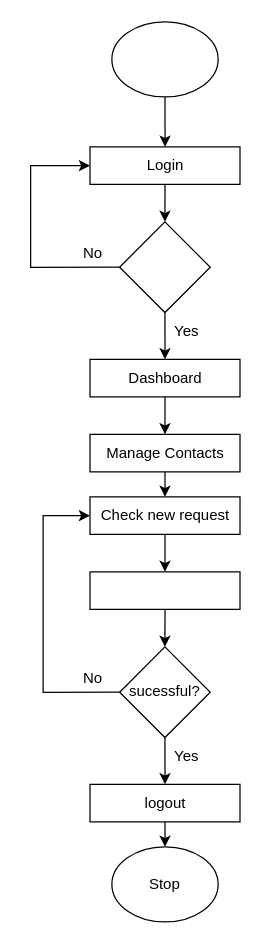
This 263x944 diagram has some shape labels left out. Here are the shapes that lost their labels. From the top down, the centre of each, then its label:
At point (164, 59): "Start".
At point (164, 266): "valid user?".
At point (164, 590): "Approve/decline request".
